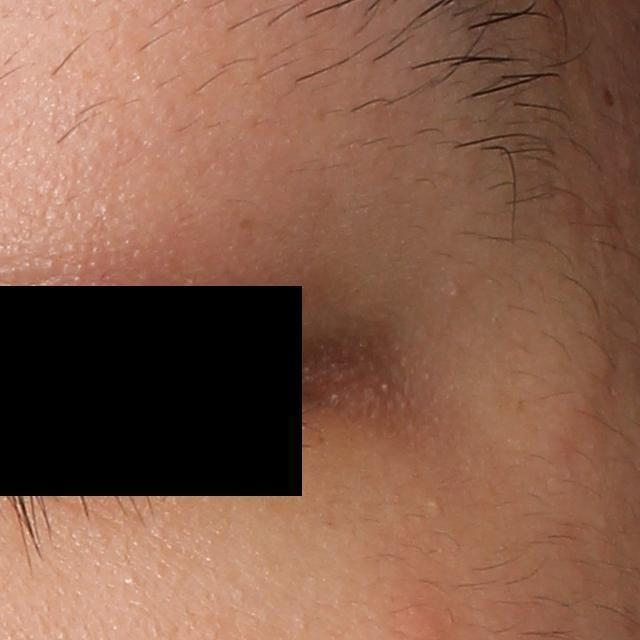other: (424, 497, 443, 514)
